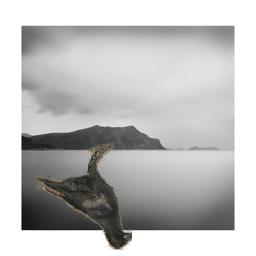Crow: (36, 144, 133, 250)
